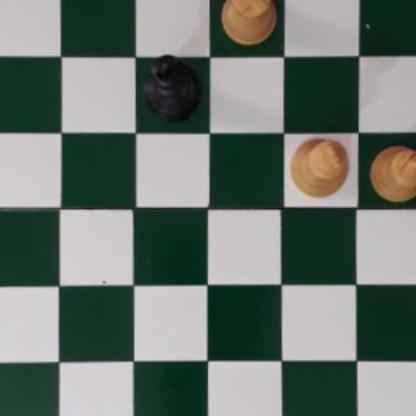black-king: (141, 53, 202, 122)
white-bishop: (368, 142, 416, 202)
white-king: (286, 134, 351, 199)
white-rook: (217, 0, 279, 45)
